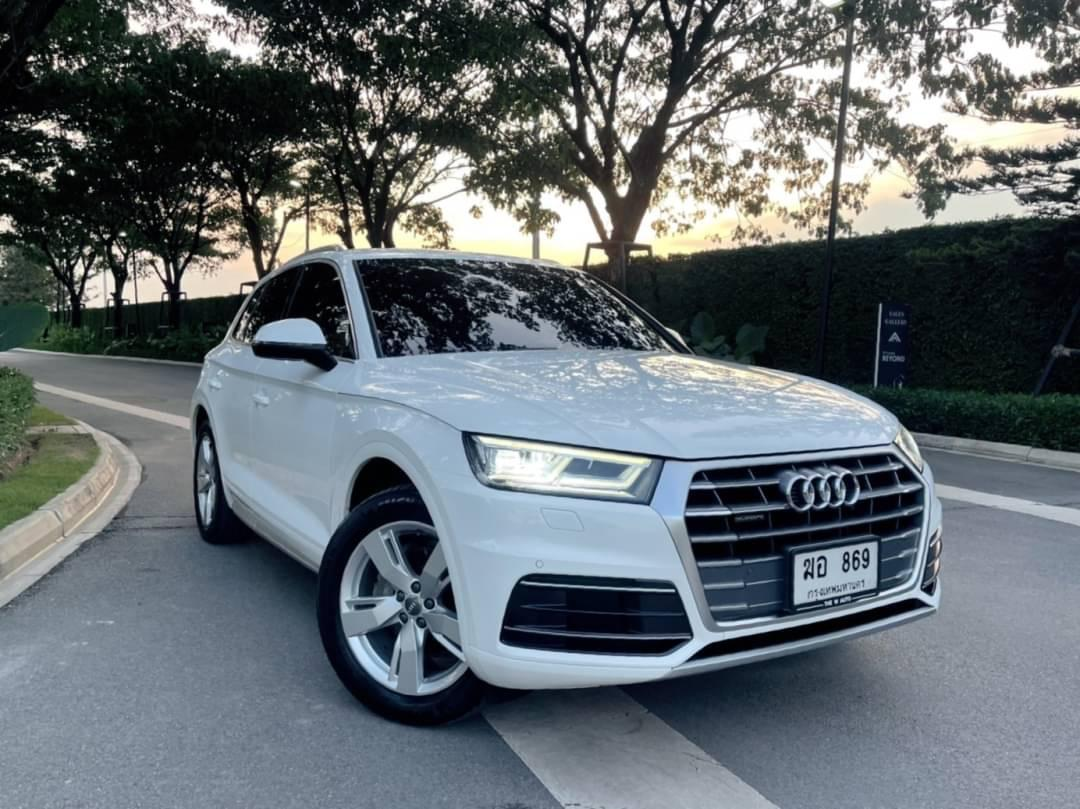license-plate: (780, 532, 888, 622)
